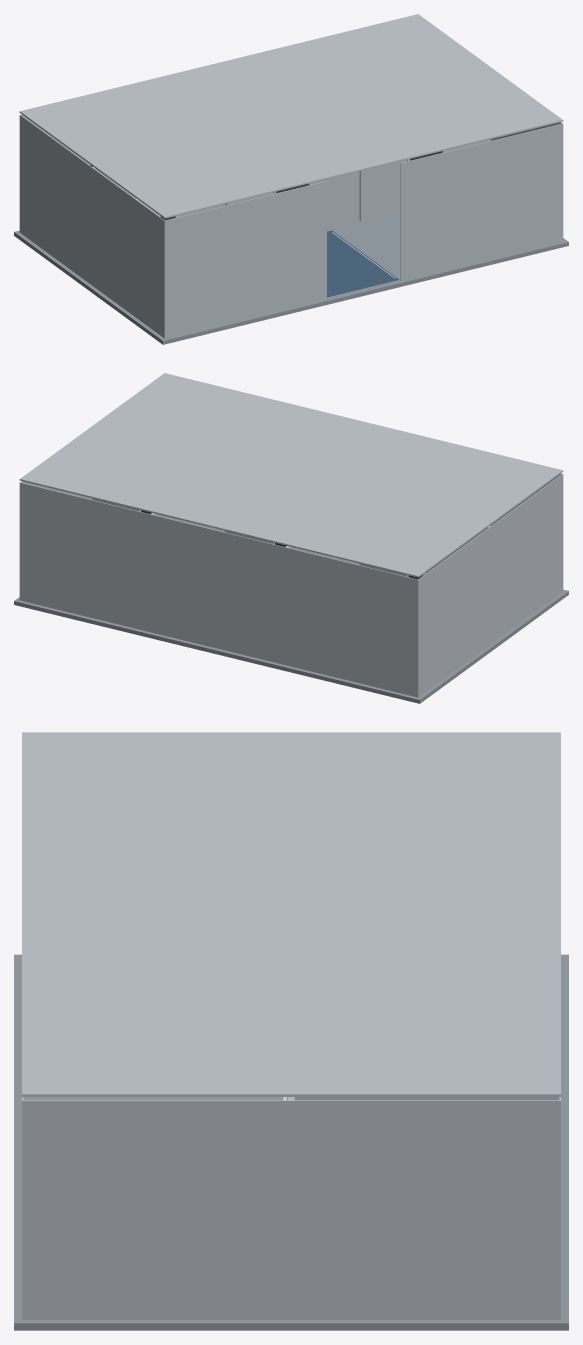
Rendered from biblioteca_interior.glb.
The picture shows the model from 3 angles, top to bottom: view 1: azimuth 30°, elevation 25°; view 2: azimuth 150°, elevation 25°; view 3: azimuth 270°, elevation 25°; orthographic projection. The views are drawn at different scales.
Parts seen in each view (by area): view 1: Forro, RevestimentoFrenteE, RevestimentoFrenteD, RevestimentoE, Piso, TapeteRecepcao, _MeshInstance3D_273, _MeshInstance3D_220, ParedeSala; view 2: Forro, RevestimentoFundo, RevestimentoE, Piso, DivisoriaD, DivisoriaE, ParedeSala; view 3: Forro, RevestimentoD, Piso, _MeshInstance3D_276, DivisoriaD.
Boxes of the visible parts, x1,y1,x2,y2 form: Forro: [19, 14, 563, 218]; RevestimentoFrenteE: [164, 181, 326, 338]; RevestimentoFrenteD: [400, 123, 562, 280]; RevestimentoE: [20, 115, 165, 338]; Piso: [14, 211, 568, 344]; TapeteRecepcao: [327, 230, 398, 297]; _MeshInstance3D_273: [359, 160, 407, 220]; _MeshInstance3D_220: [308, 171, 357, 228]; ParedeSala: [91, 166, 136, 285]; Forro: [19, 373, 563, 577]; RevestimentoFundo: [20, 482, 418, 697]; RevestimentoE: [417, 474, 562, 697]; Piso: [14, 589, 568, 703]; DivisoriaD: [150, 513, 224, 627]; DivisoriaE: [284, 546, 359, 663]; ParedeSala: [441, 525, 491, 644]; Forro: [22, 732, 560, 1096]; RevestimentoD: [22, 1100, 560, 1319]; Piso: [14, 954, 568, 1330]; _MeshInstance3D_276: [288, 1097, 294, 1319]; DivisoriaD: [295, 1097, 559, 1100].
Bounding box in the file's own units: 22 × 6.48 × 14.
